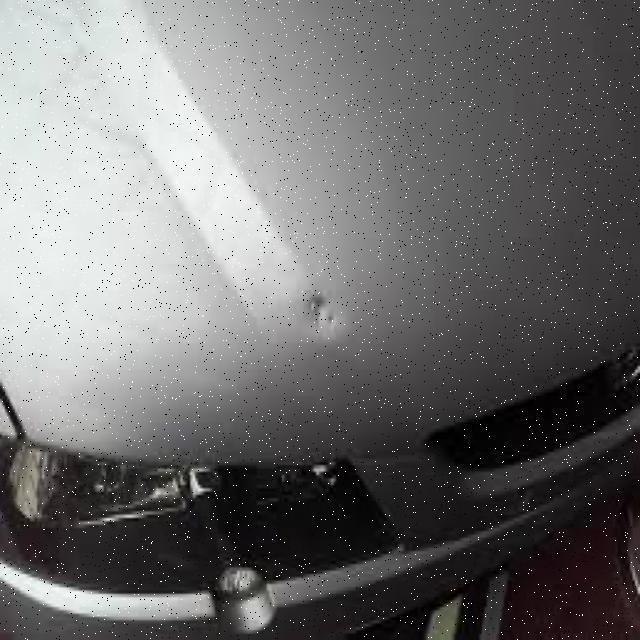bonnet-dent: (0, 0, 435, 551)
